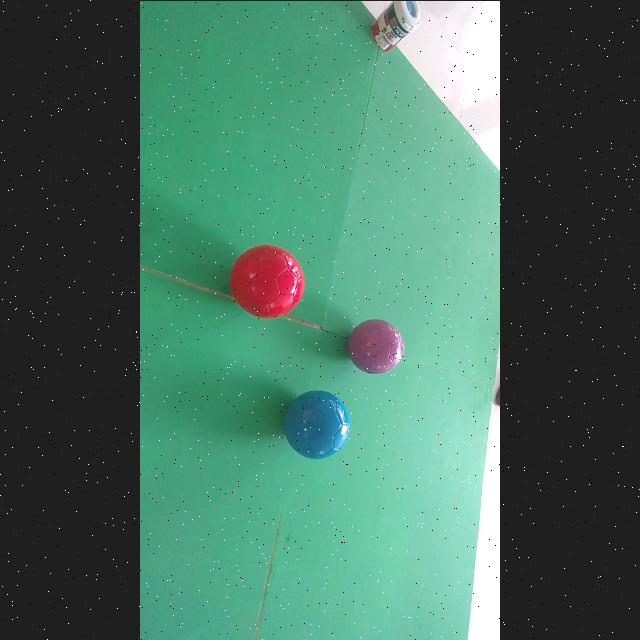B: (283, 389, 350, 459)
P: (348, 318, 405, 372)
R: (229, 243, 304, 317)
